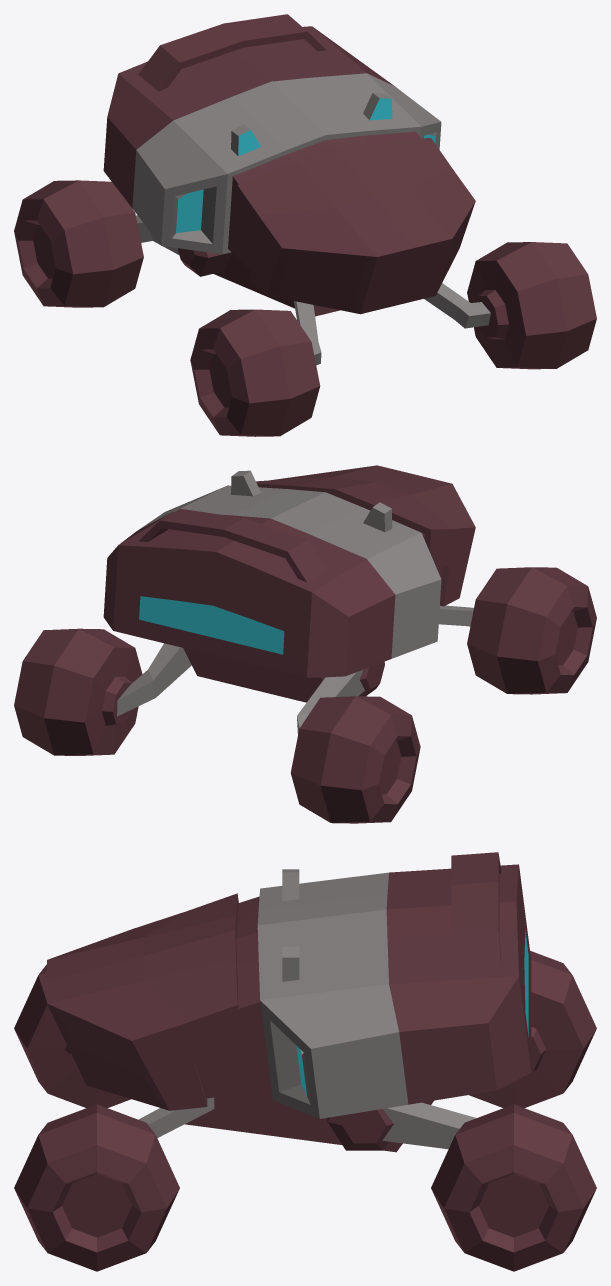
Rendered from scifi-four-wheel-truck.fbx.
The picture shows the model from 3 angles, top to bottom: view 1: azimuth 30°, elevation 25°; view 2: azimuth 150°, elevation 25°; view 3: azimuth 270°, elevation 25°; orthographic projection. The views are drawn at different scales.
Parts seen in each view (by area): view 1: scifi-four-wheel-truck-base, scifi-four-wheel-truck-wheel-FR, scifi-four-wheel-truck-wheel-BR, scifi-four-wheel-truck-wheel-FL; view 2: scifi-four-wheel-truck-base, scifi-four-wheel-truck-wheel-BR, scifi-four-wheel-truck-wheel-FR, scifi-four-wheel-truck-wheel-BL; view 3: scifi-four-wheel-truck-base, scifi-four-wheel-truck-wheel-BL, scifi-four-wheel-truck-wheel-FL, scifi-four-wheel-truck-wheel-BR, scifi-four-wheel-truck-wheel-FR.
Part boxes in pixels (x1,y1,x2,y2): scifi-four-wheel-truck-base: (103,14,490,365); scifi-four-wheel-truck-wheel-FR: (190,309,320,436); scifi-four-wheel-truck-wheel-BR: (14,180,143,307); scifi-four-wheel-truck-wheel-FL: (467,242,596,369); scifi-four-wheel-truck-base: (103,465,475,734); scifi-four-wheel-truck-wheel-BR: (290,696,420,823); scifi-four-wheel-truck-wheel-FR: (467,567,596,694); scifi-four-wheel-truck-wheel-BL: (14,628,142,755); scifi-four-wheel-truck-base: (46,852,531,1152); scifi-four-wheel-truck-wheel-BL: (431,1104,596,1271); scifi-four-wheel-truck-wheel-FL: (14,1104,179,1271); scifi-four-wheel-truck-wheel-BR: (469,950,596,1107); scifi-four-wheel-truck-wheel-FR: (14,964,131,1107).
Size of the model in its own units: 5.31 by 3.59 by 6.28.
